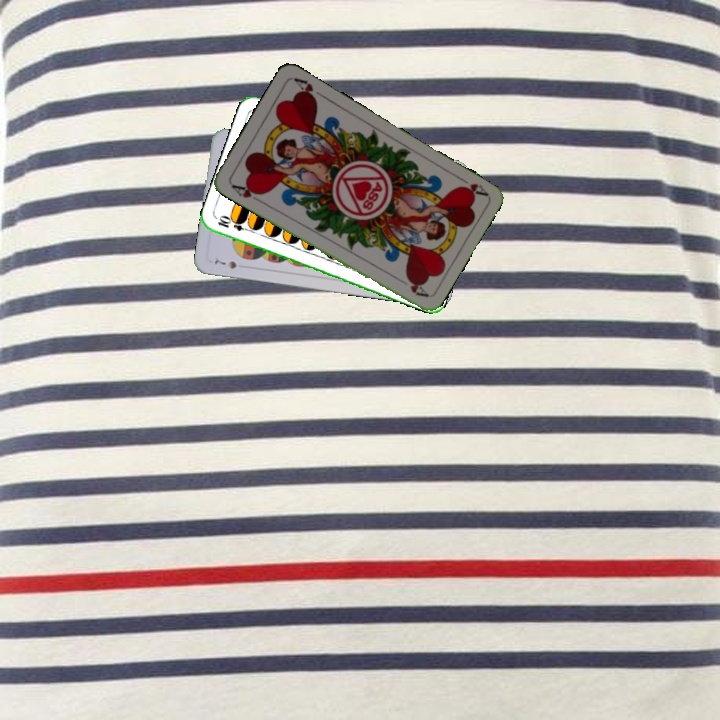E10: (213, 213, 254, 234)
HA: (452, 171, 489, 199), (227, 180, 266, 205)
S7: (210, 256, 239, 271)
